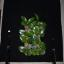leaf: (20, 34, 28, 42), (33, 34, 39, 44), (27, 17, 35, 24), (38, 27, 46, 34), (18, 46, 26, 53), (39, 42, 46, 50), (34, 14, 39, 24), (32, 27, 39, 34), (26, 49, 33, 56), (21, 16, 27, 24), (26, 30, 34, 36), (32, 48, 38, 56), (19, 29, 26, 35), (27, 38, 34, 44), (38, 49, 45, 55), (38, 22, 46, 26), (27, 24, 34, 28)
